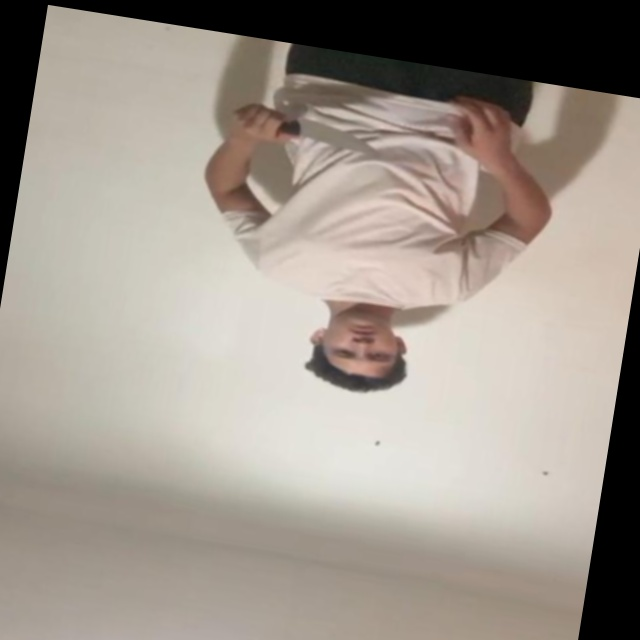Sharp-Object: (300, 121, 379, 156)
